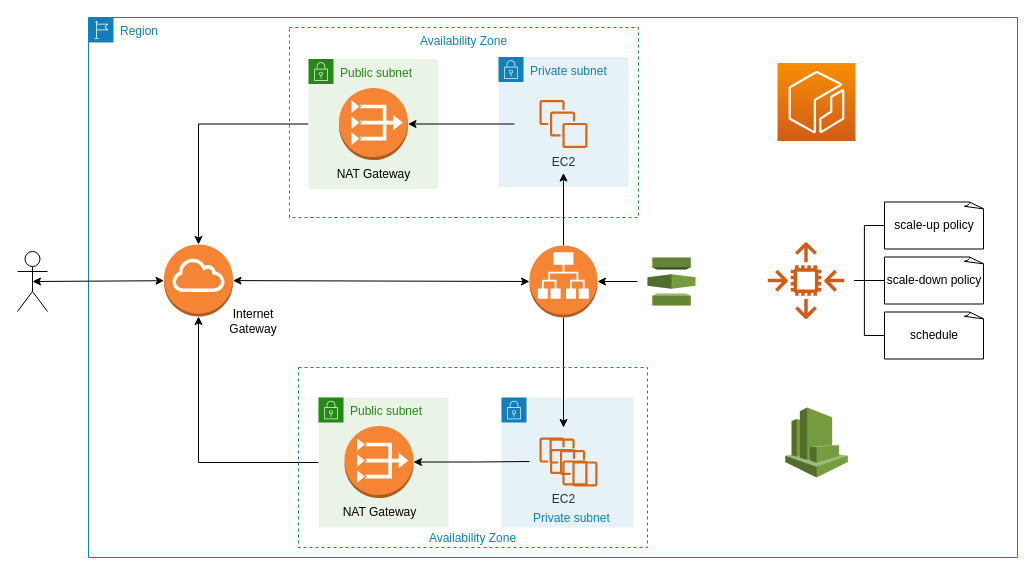
Image size: 1035x575. Some labels were removed from this diagram. Each missing label, with the centre of its shape:
"Autoscaling Group" belongs at point 805,280.
"Certificate Manager" belongs at point 671,281.
"CloudWatch Logging" belongs at point 816,442.
"Container Registry" belongs at point 816,101.
"Load Balancer" belongs at point 563,281.
"User" belongs at point 32,281.
